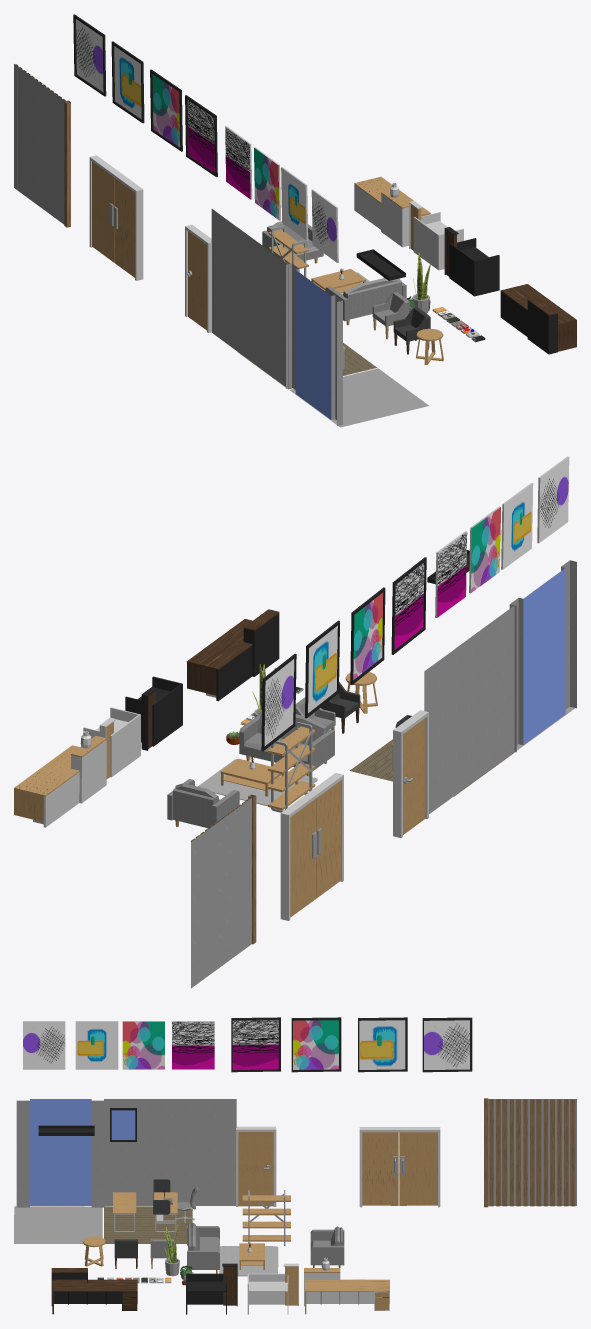
File: ModernOffice.fbx
3 views of the same model, one above another, from view 1: azimuth 30°, elevation 25°; view 2: azimuth 150°, elevation 25°; view 3: azimuth 270°, elevation 25° (orthographic). The views are drawn at different scales.
Parts seen in each view (by area): view 1: wall small .001, wood wall, wall small .003, lobby desk A Dark, big tile light wood .001, wall small .004, lobby desk A Light, lobby desk B Dark, art framed .004, art framed .007, art framed .005, art framed .006 (+20 smaller); view 2: wall small .001, wood wall, wall small .003, lobby desk A Dark, lobby desk A Light, wall small .004, shelf, lobby desk B Dark, big Wood doors light R, big Wood doors light L, art framed .007, art framed .004 (+17 smaller); view 3: wood wall, wall small .001, wall small .003, wall small .004, big tile light wood .001, big Wood doors light R, art framed .005, art framed .007, big Wood doors light L, art framed .004, art framed .006, lobby desk A Dark (+25 smaller).
Part boxes in pixels (<box>): wall small .001: <box>286,263,342,426</box>; wood wall: <box>14,64,65,224</box>; wall small .003: <box>237,227,288,388</box>; lobby desk A Dark: <box>500,284,576,354</box>; big tile light wood .001: <box>289,368,428,427</box>; wall small .004: <box>211,209,236,350</box>; lobby desk A Light: <box>354,176,430,247</box>; lobby desk B Dark: <box>444,227,499,296</box>; art framed .004: <box>185,95,217,177</box>; art framed .007: <box>73,14,106,96</box>; art framed .005: <box>150,69,182,151</box>; art framed .006: <box>111,41,144,123</box>; wall small .001: <box>509,560,576,752</box>; wood wall: <box>191,797,251,988</box>; wall small .003: <box>454,605,514,795</box>; lobby desk A Dark: <box>186,609,279,701</box>; lobby desk A Light: <box>14,736,106,827</box>; wall small .004: <box>424,649,454,813</box>; shelf: <box>268,722,315,812</box>; lobby desk B Dark: <box>125,676,182,750</box>; big Wood doors light R: <box>290,799,316,917</box>; big Wood doors light L: <box>316,780,341,898</box>; art framed .007: <box>261,653,296,751</box>; art framed .004: <box>391,557,426,654</box>; wood wall: <box>488,1099,576,1206</box>; wall small .001: <box>16,1099,104,1207</box>; wall small .003: <box>104,1099,192,1205</box>; wall small .004: <box>192,1099,236,1205</box>; big tile light wood .001: <box>14,1206,102,1243</box>; big Wood doors light R: <box>399,1132,437,1205</box>; art framed .005: <box>291,1017,341,1072</box>; art framed .007: <box>422,1017,472,1072</box>; big Wood doors light L: <box>362,1132,398,1205</box>; art framed .004: <box>231,1017,280,1072</box>; art framed .006: <box>358,1017,407,1072</box>; lobby desk A Dark: <box>51,1268,137,1314</box>.
Bounding box in the file's own units: 894 × 708 × 1907.
